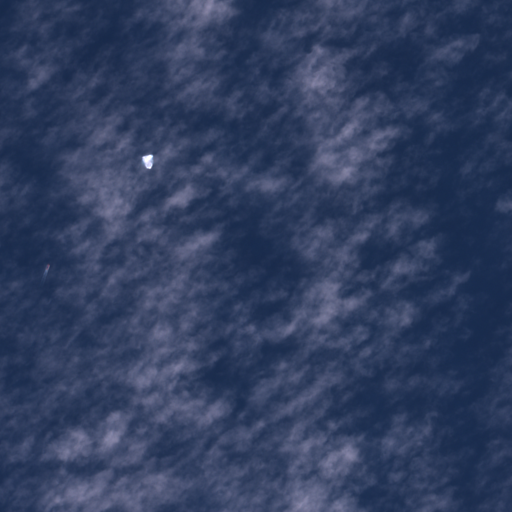Iceberg: (141, 154, 153, 169)
